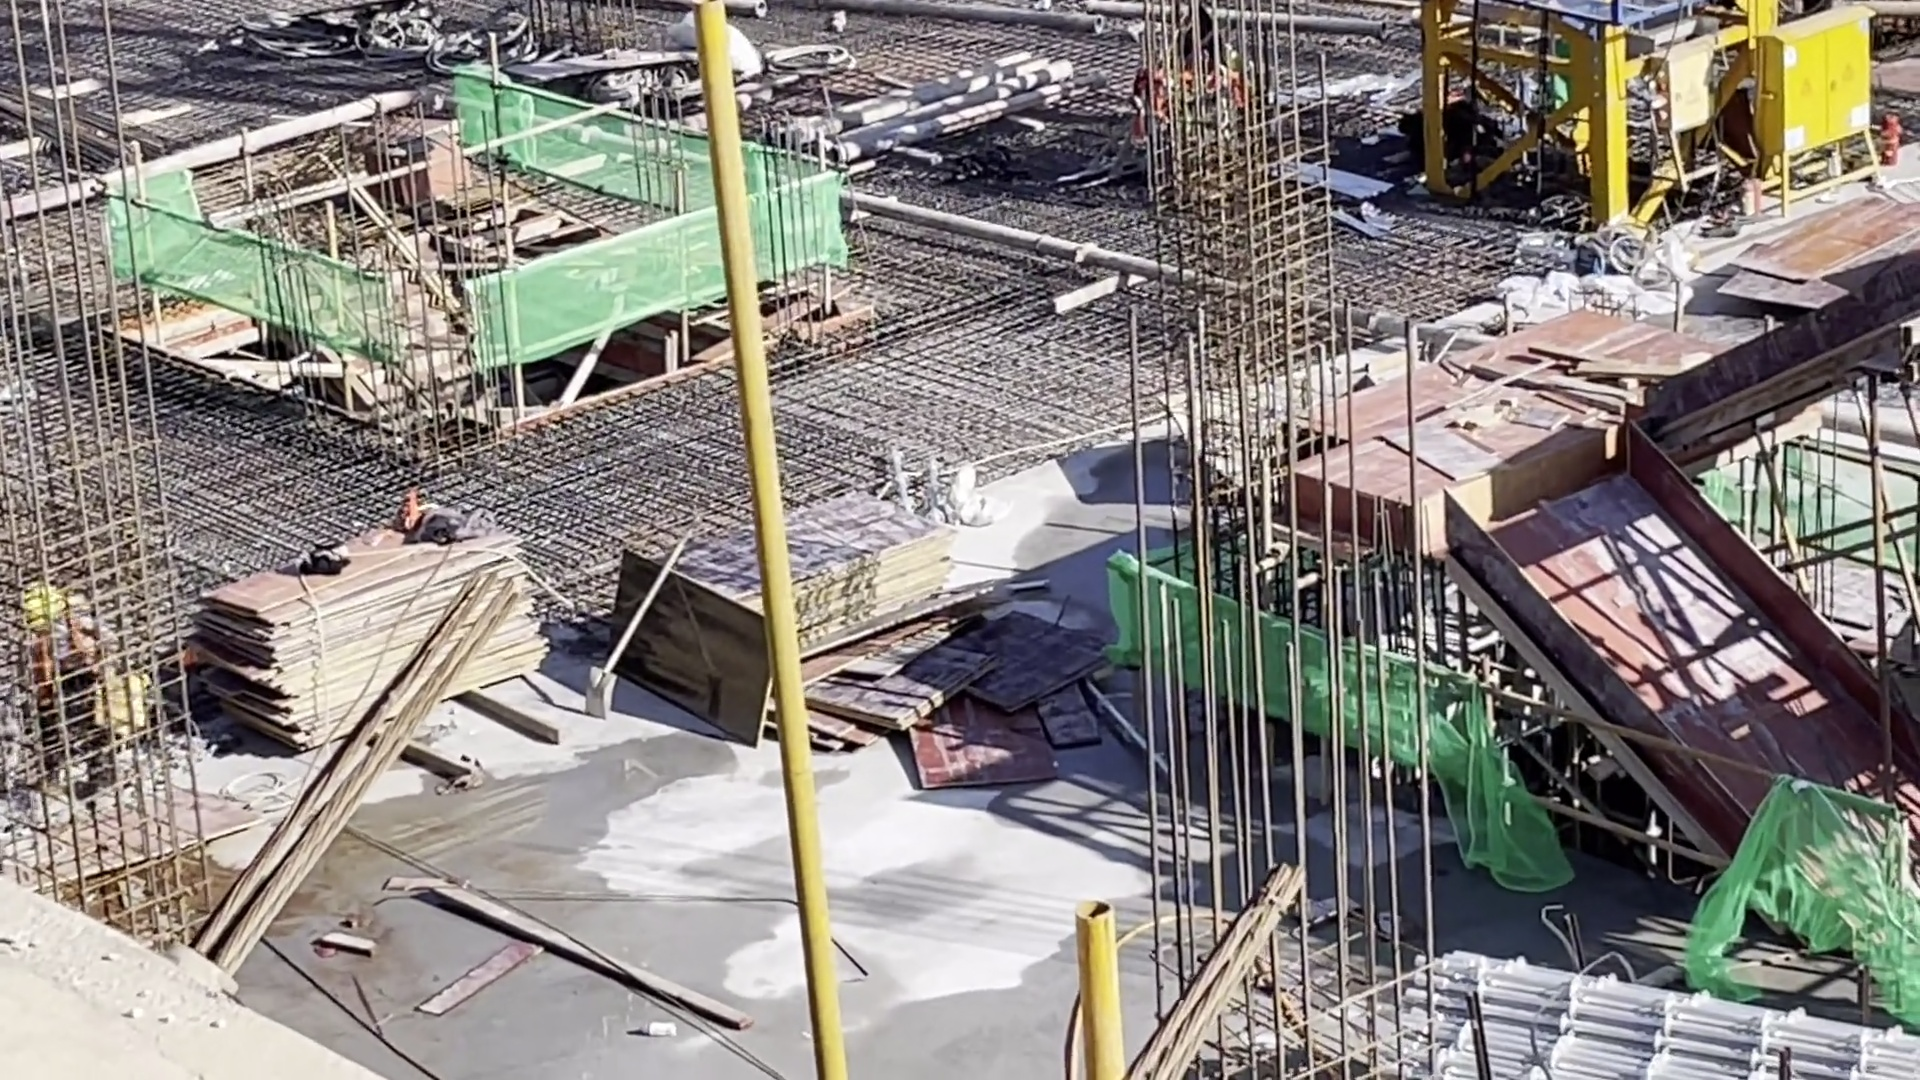board: (203, 517, 545, 748), (659, 488, 953, 653)
ebox: (1743, 4, 1900, 218), (1644, 37, 1737, 191)
scaffold: (1418, 948, 1920, 1080)
